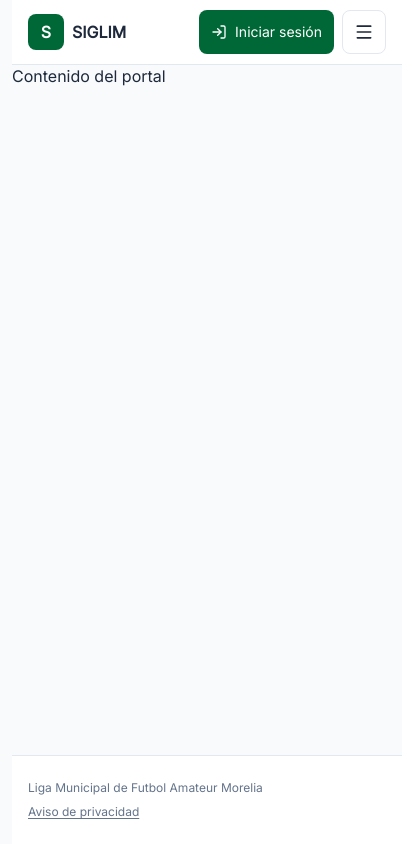
Test: PublicLayout › navega a resultados desde el menú móvil
Click the button named "Abrir menú".
click(364, 32)  # box 342,10 -> 386,54
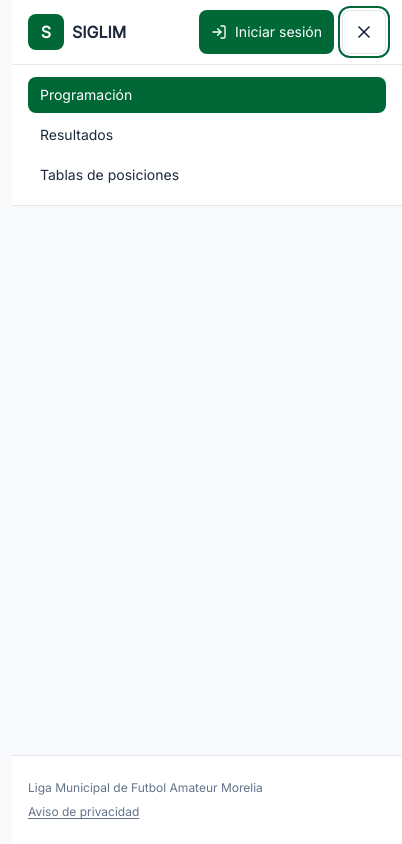
Result: the navigation bar with id "menu-portal" is shown at 12,64 -> 401,205
Click the link "Resultados".
click(77, 134)  # box 40,126 -> 113,143
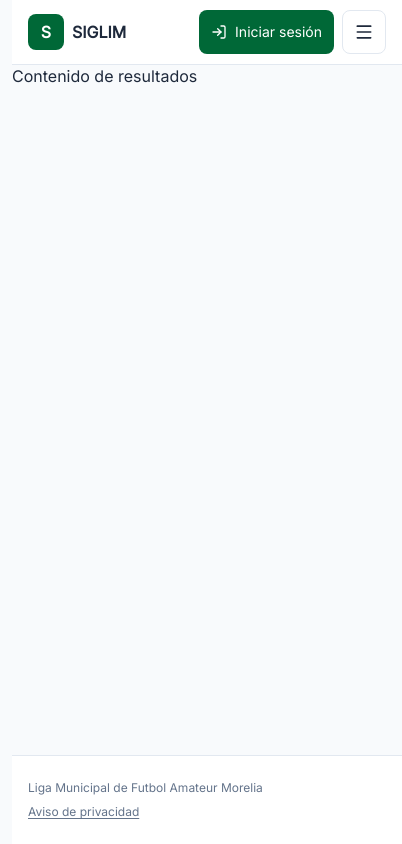
Result: the text "Contenido de resultados" is shown at 12,66 -> 197,86
